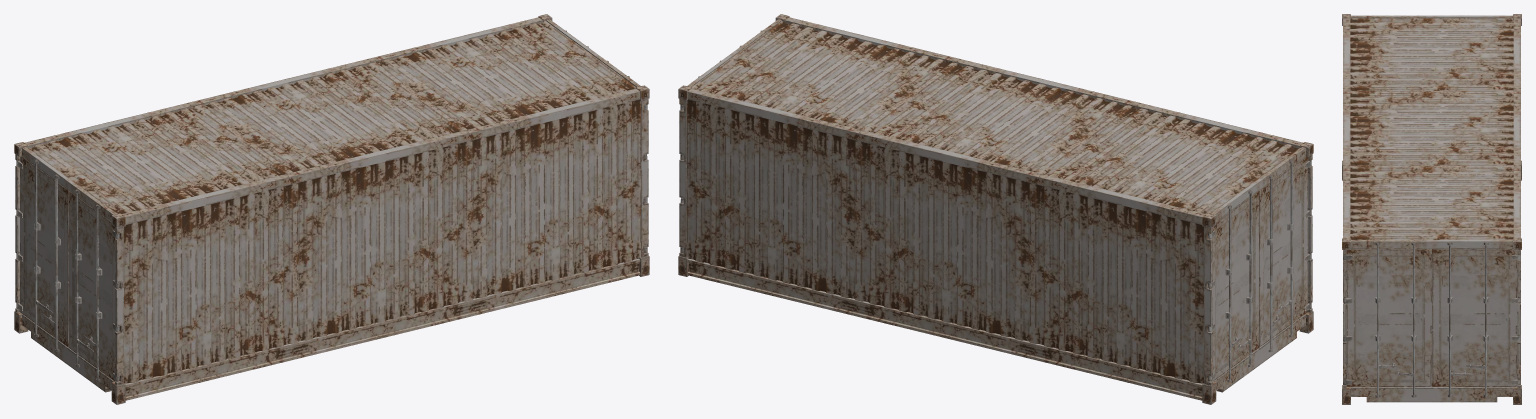
File: shipping_container_900_a_yellow.glb
The picture shows the model from 3 angles, left to right: view 1: azimuth 30°, elevation 25°; view 2: azimuth 150°, elevation 25°; view 3: azimuth 270°, elevation 25°; orthographic projection. The views are drawn at different scales.
Visible parts, largest first — view 1: shipping_container_900_a_yellow; view 2: shipping_container_900_a_yellow; view 3: shipping_container_900_a_yellow.
Boxes of the visible parts, x1,y1,x2,y2 form: shipping_container_900_a_yellow: (14,14,649,404); shipping_container_900_a_yellow: (678,14,1313,404); shipping_container_900_a_yellow: (1342,14,1521,404).
Size of the model in its own units: 9.01 by 3 by 3.
Materials: 1 (1 with a texture image).
